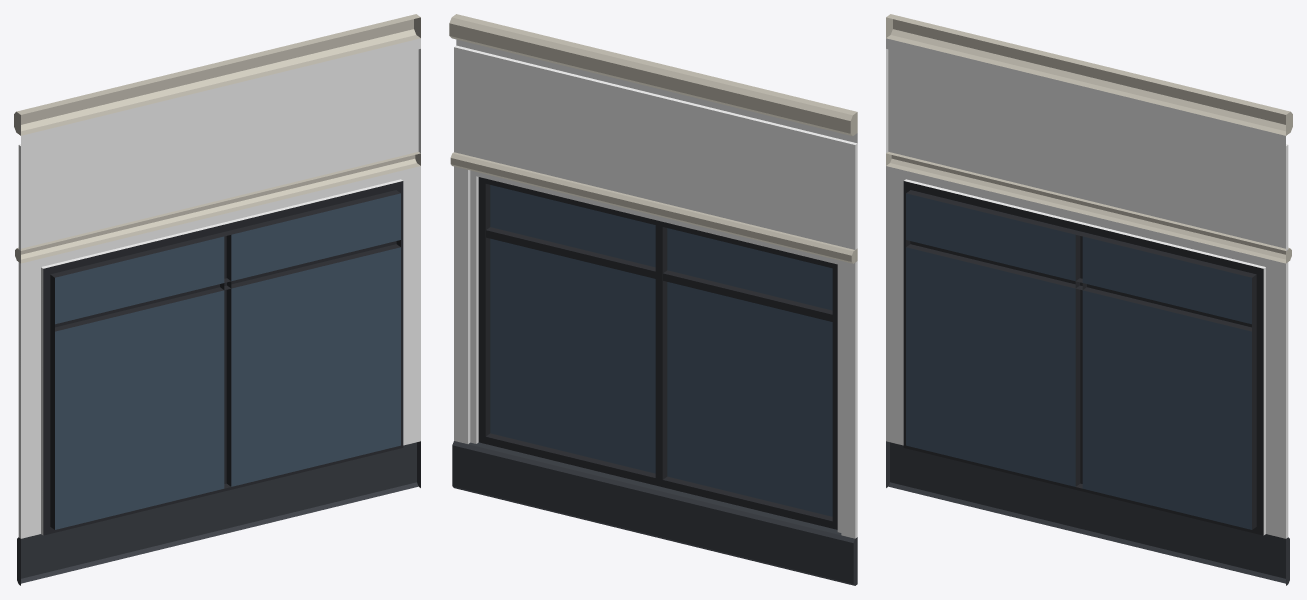
Rendered from shop_glass.glb.
3 views of the same model, side by side, from view 1: azimuth 30°, elevation 25°; view 2: azimuth 150°, elevation 25°; view 3: azimuth 330°, elevation 25° (orthographic).
Visible parts, largest first — view 1: shop_glass__mesh; view 2: shop_glass__mesh; view 3: shop_glass__mesh.
Boxes of the visible parts, left/top/right/bottom form: shop_glass__mesh: left=14, top=14, right=420, bottom=585; shop_glass__mesh: left=449, top=14, right=857, bottom=585; shop_glass__mesh: left=886, top=14, right=1292, bottom=585.
Size of what is drawn, in the model's own units: 4 by 4.5 by 0.24.
2 materials, 1 textured.
